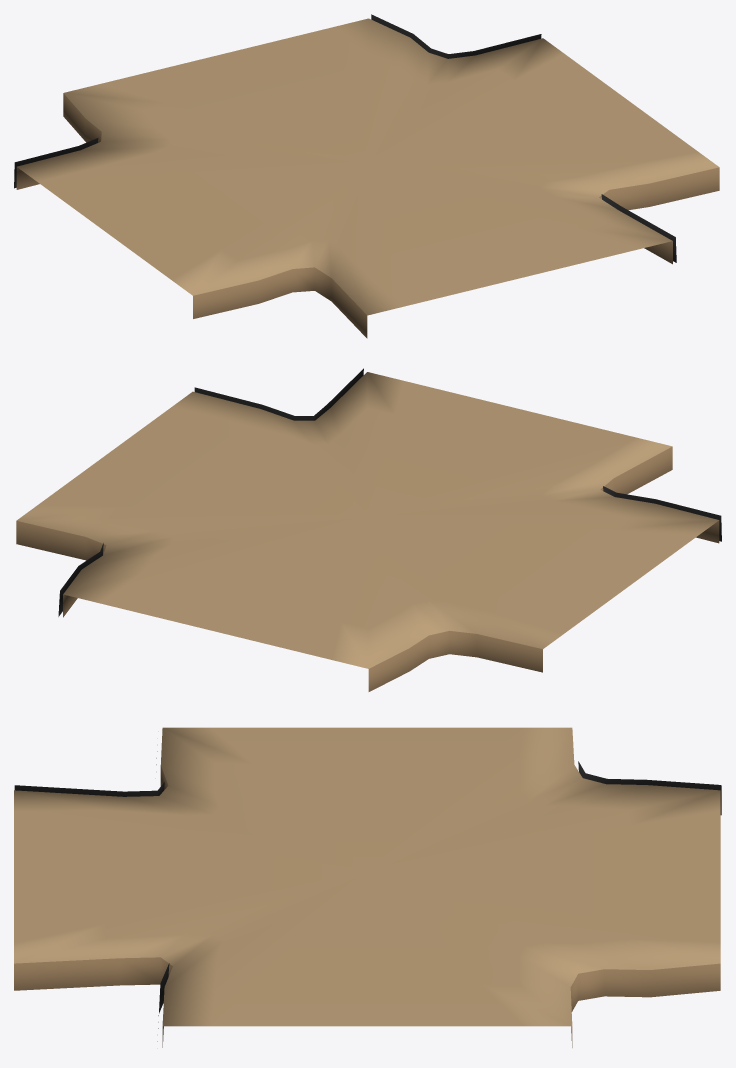
File: td_pathtile4.fbx
3 renders of one model, top to bottom at view 1: azimuth 30°, elevation 25°; view 2: azimuth 150°, elevation 25°; view 3: azimuth 270°, elevation 25°, orthographic. The views are drawn at different scales.
Visible parts, largest first — view 1: Path_Cross; view 2: Path_Cross; view 3: Path_Cross.
Boxes of the visible parts, box(x1,y1,x2,y2) form: Path_Cross: box(14, 14, 719, 338); Path_Cross: box(16, 368, 721, 691); Path_Cross: box(14, 727, 721, 1047).
Size of the model in its own units: 200 by 11.7 by 200.
